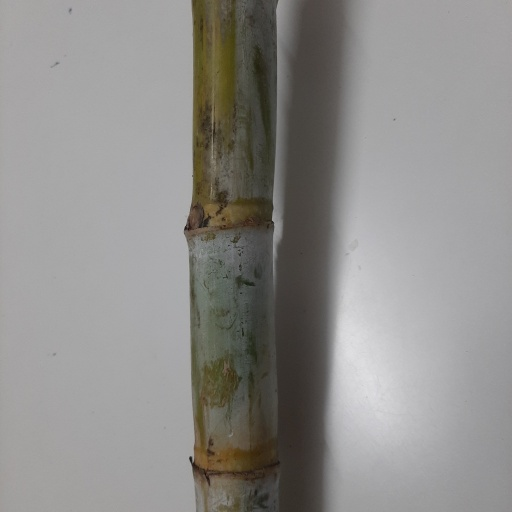Bud: (185, 204, 203, 230)
